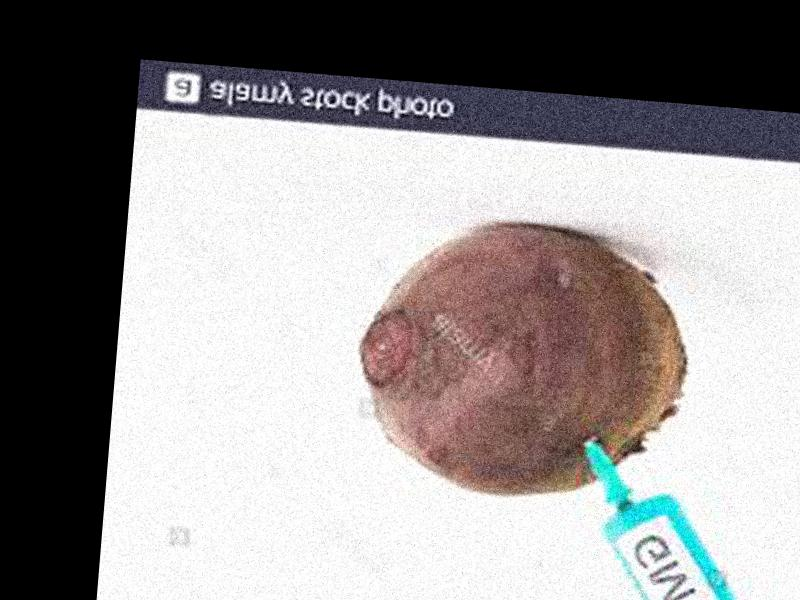Beet: (351, 210, 691, 510)
